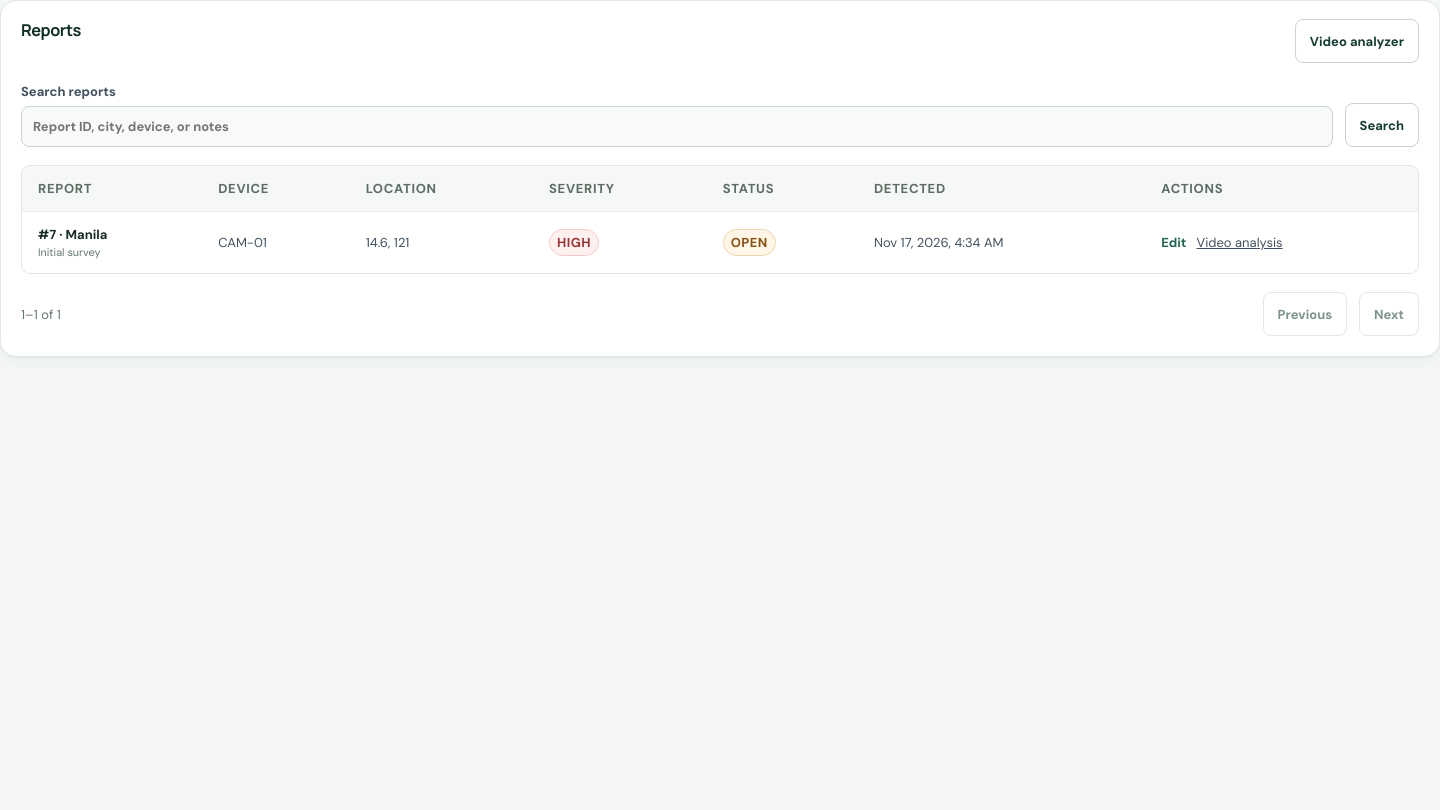
it: report editing › preserves edits and displays backend field errors without closing the dialog
This screenshot has width=1440, height=810.
Click the button with aria-label "Edit report #7" at (1174, 242), box x1=1161 y1=234 x2=1186 y2=251
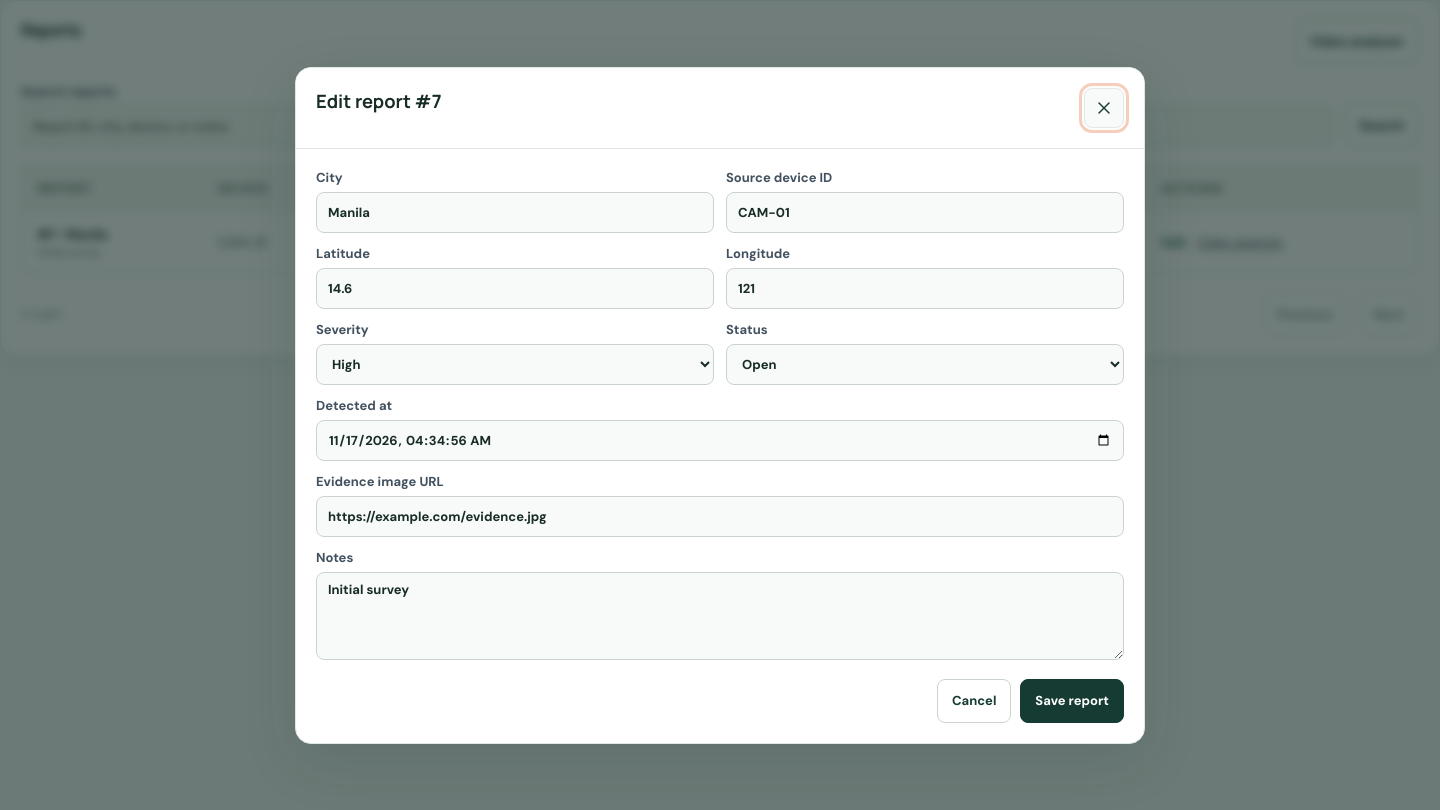
Replace the text in the field labelled "City" with "Changed city" at (515, 212), box x1=316 y1=192 x2=714 y2=232
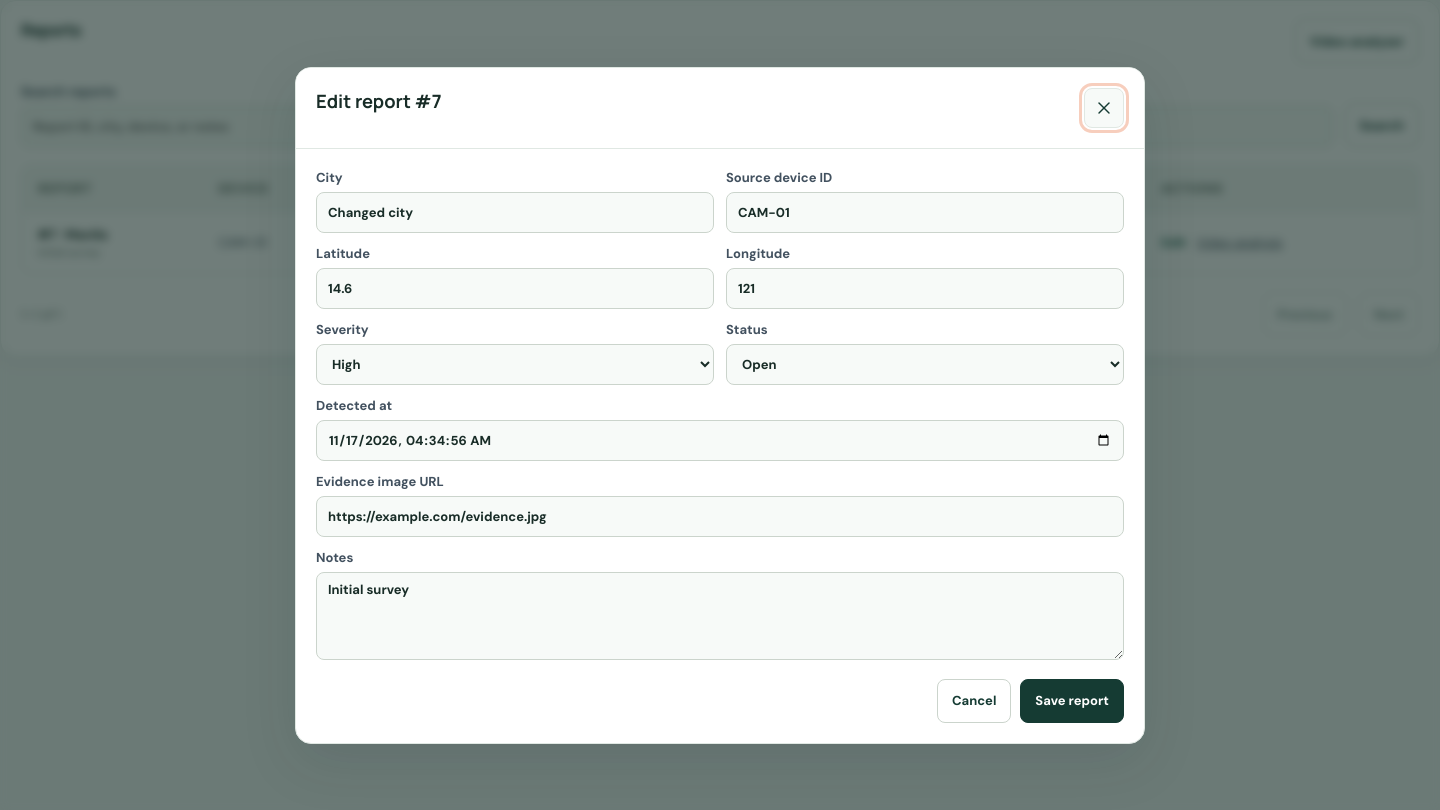
Click the button "Save report" at (1072, 700), box x1=1020 y1=678 x2=1124 y2=722
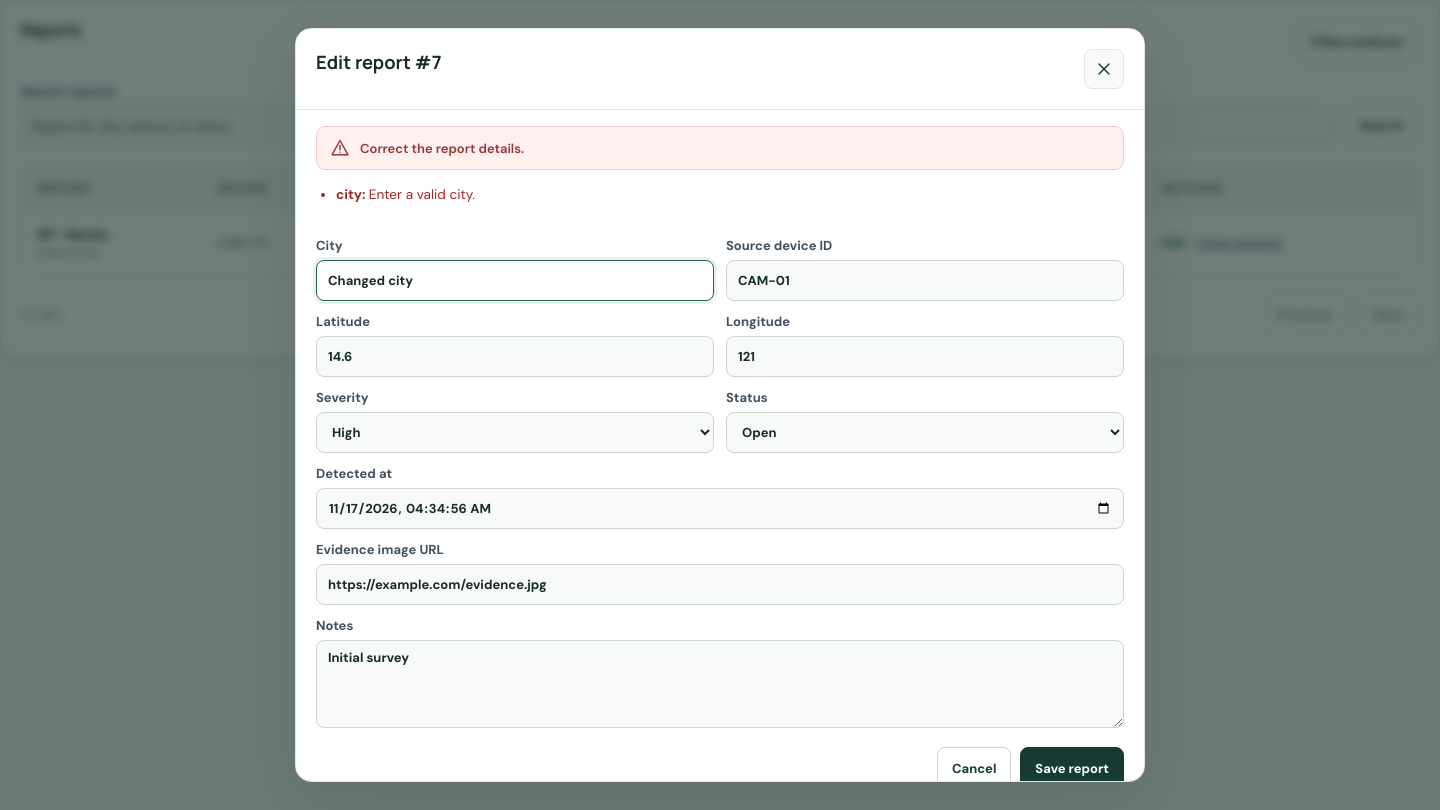
expect the list item "Enter a valid city." is shown: met, box x1=369 y1=186 x2=475 y2=203
Click the button "Cancel" at (974, 769), box x1=937 y1=747 x2=1011 y2=791
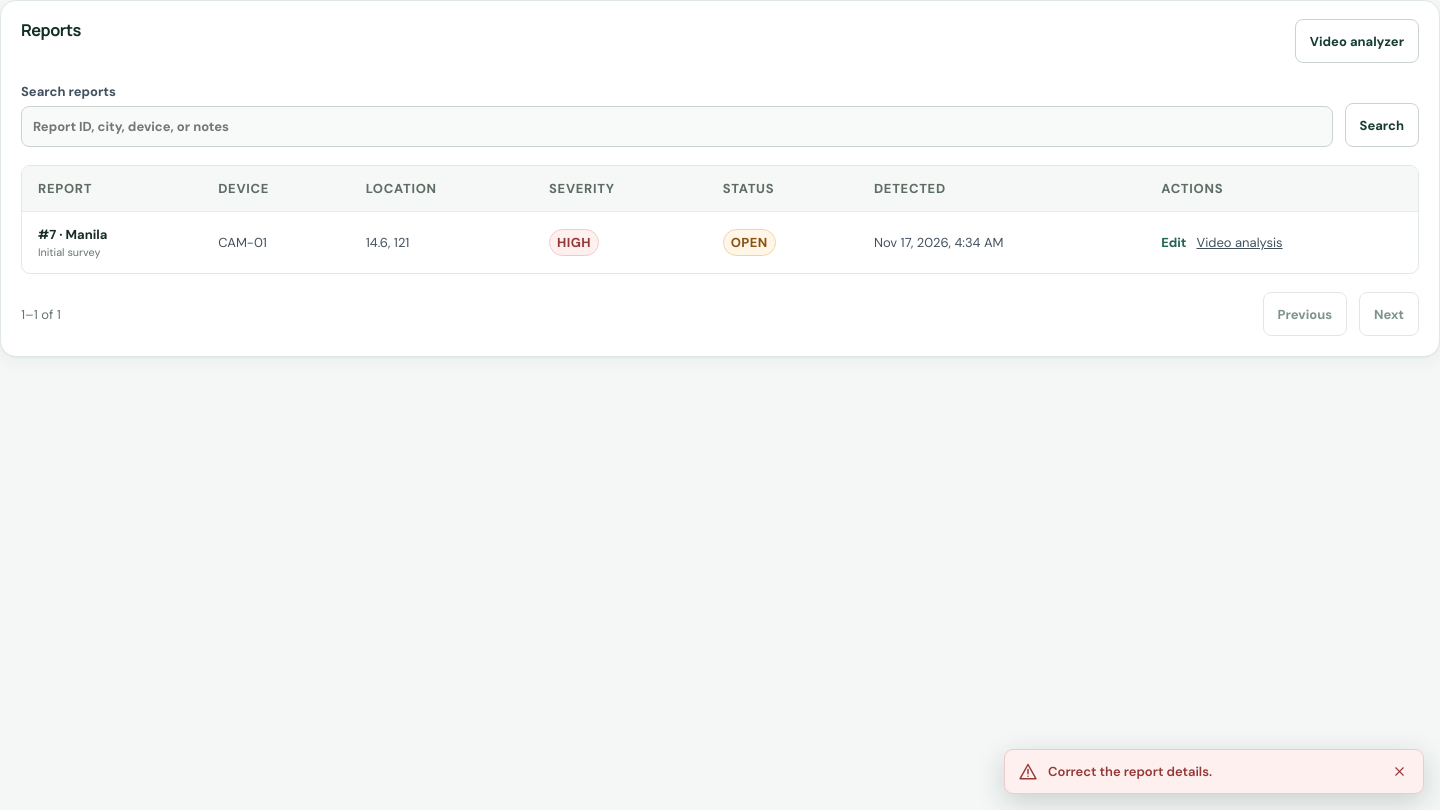
Click the button with aria-label "Edit report #7" at (1174, 242), box x1=1161 y1=234 x2=1186 y2=251
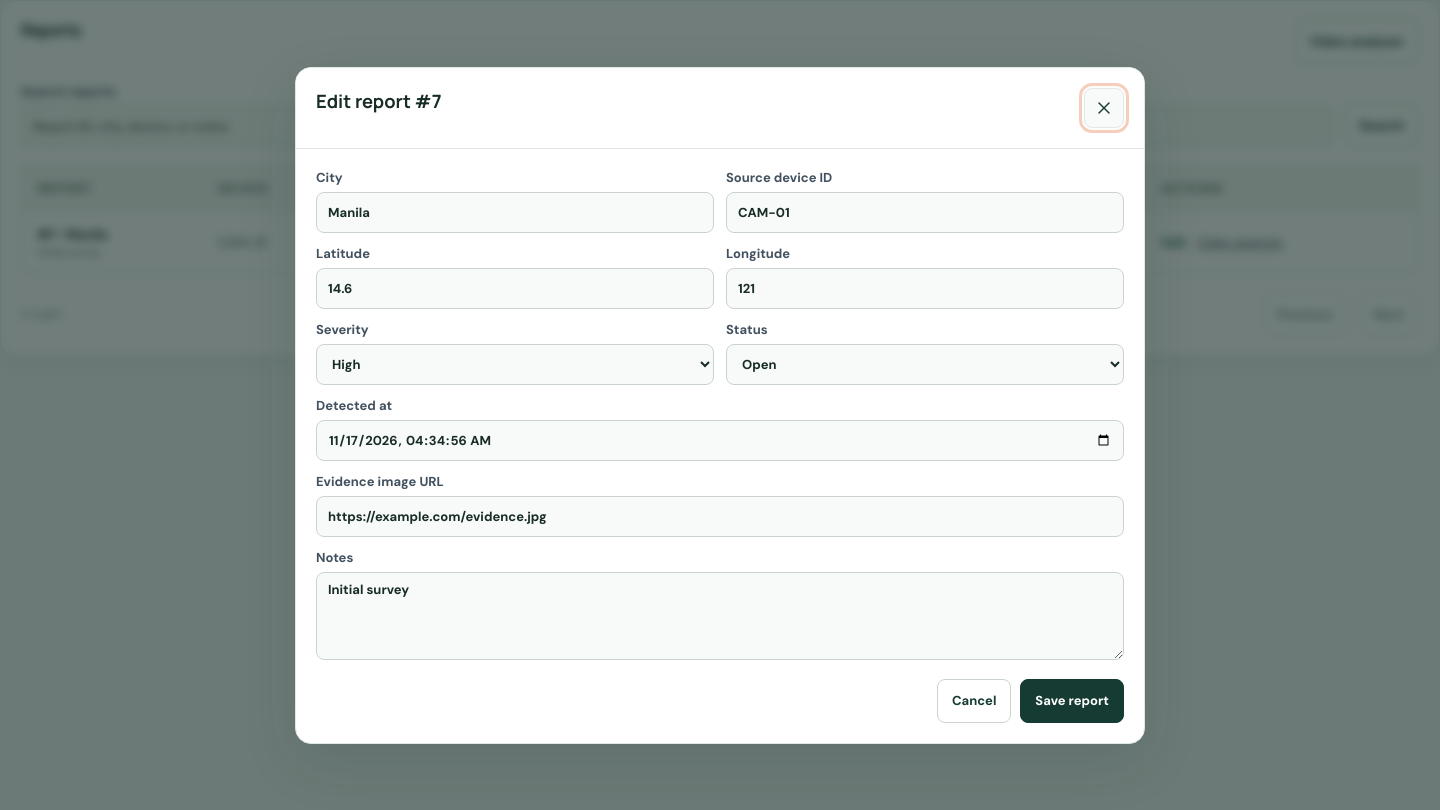
expect the list item "Enter a valid city." is not shown: met
expect the field labelled "City" holds "Manila": met, box x1=316 y1=192 x2=714 y2=232
